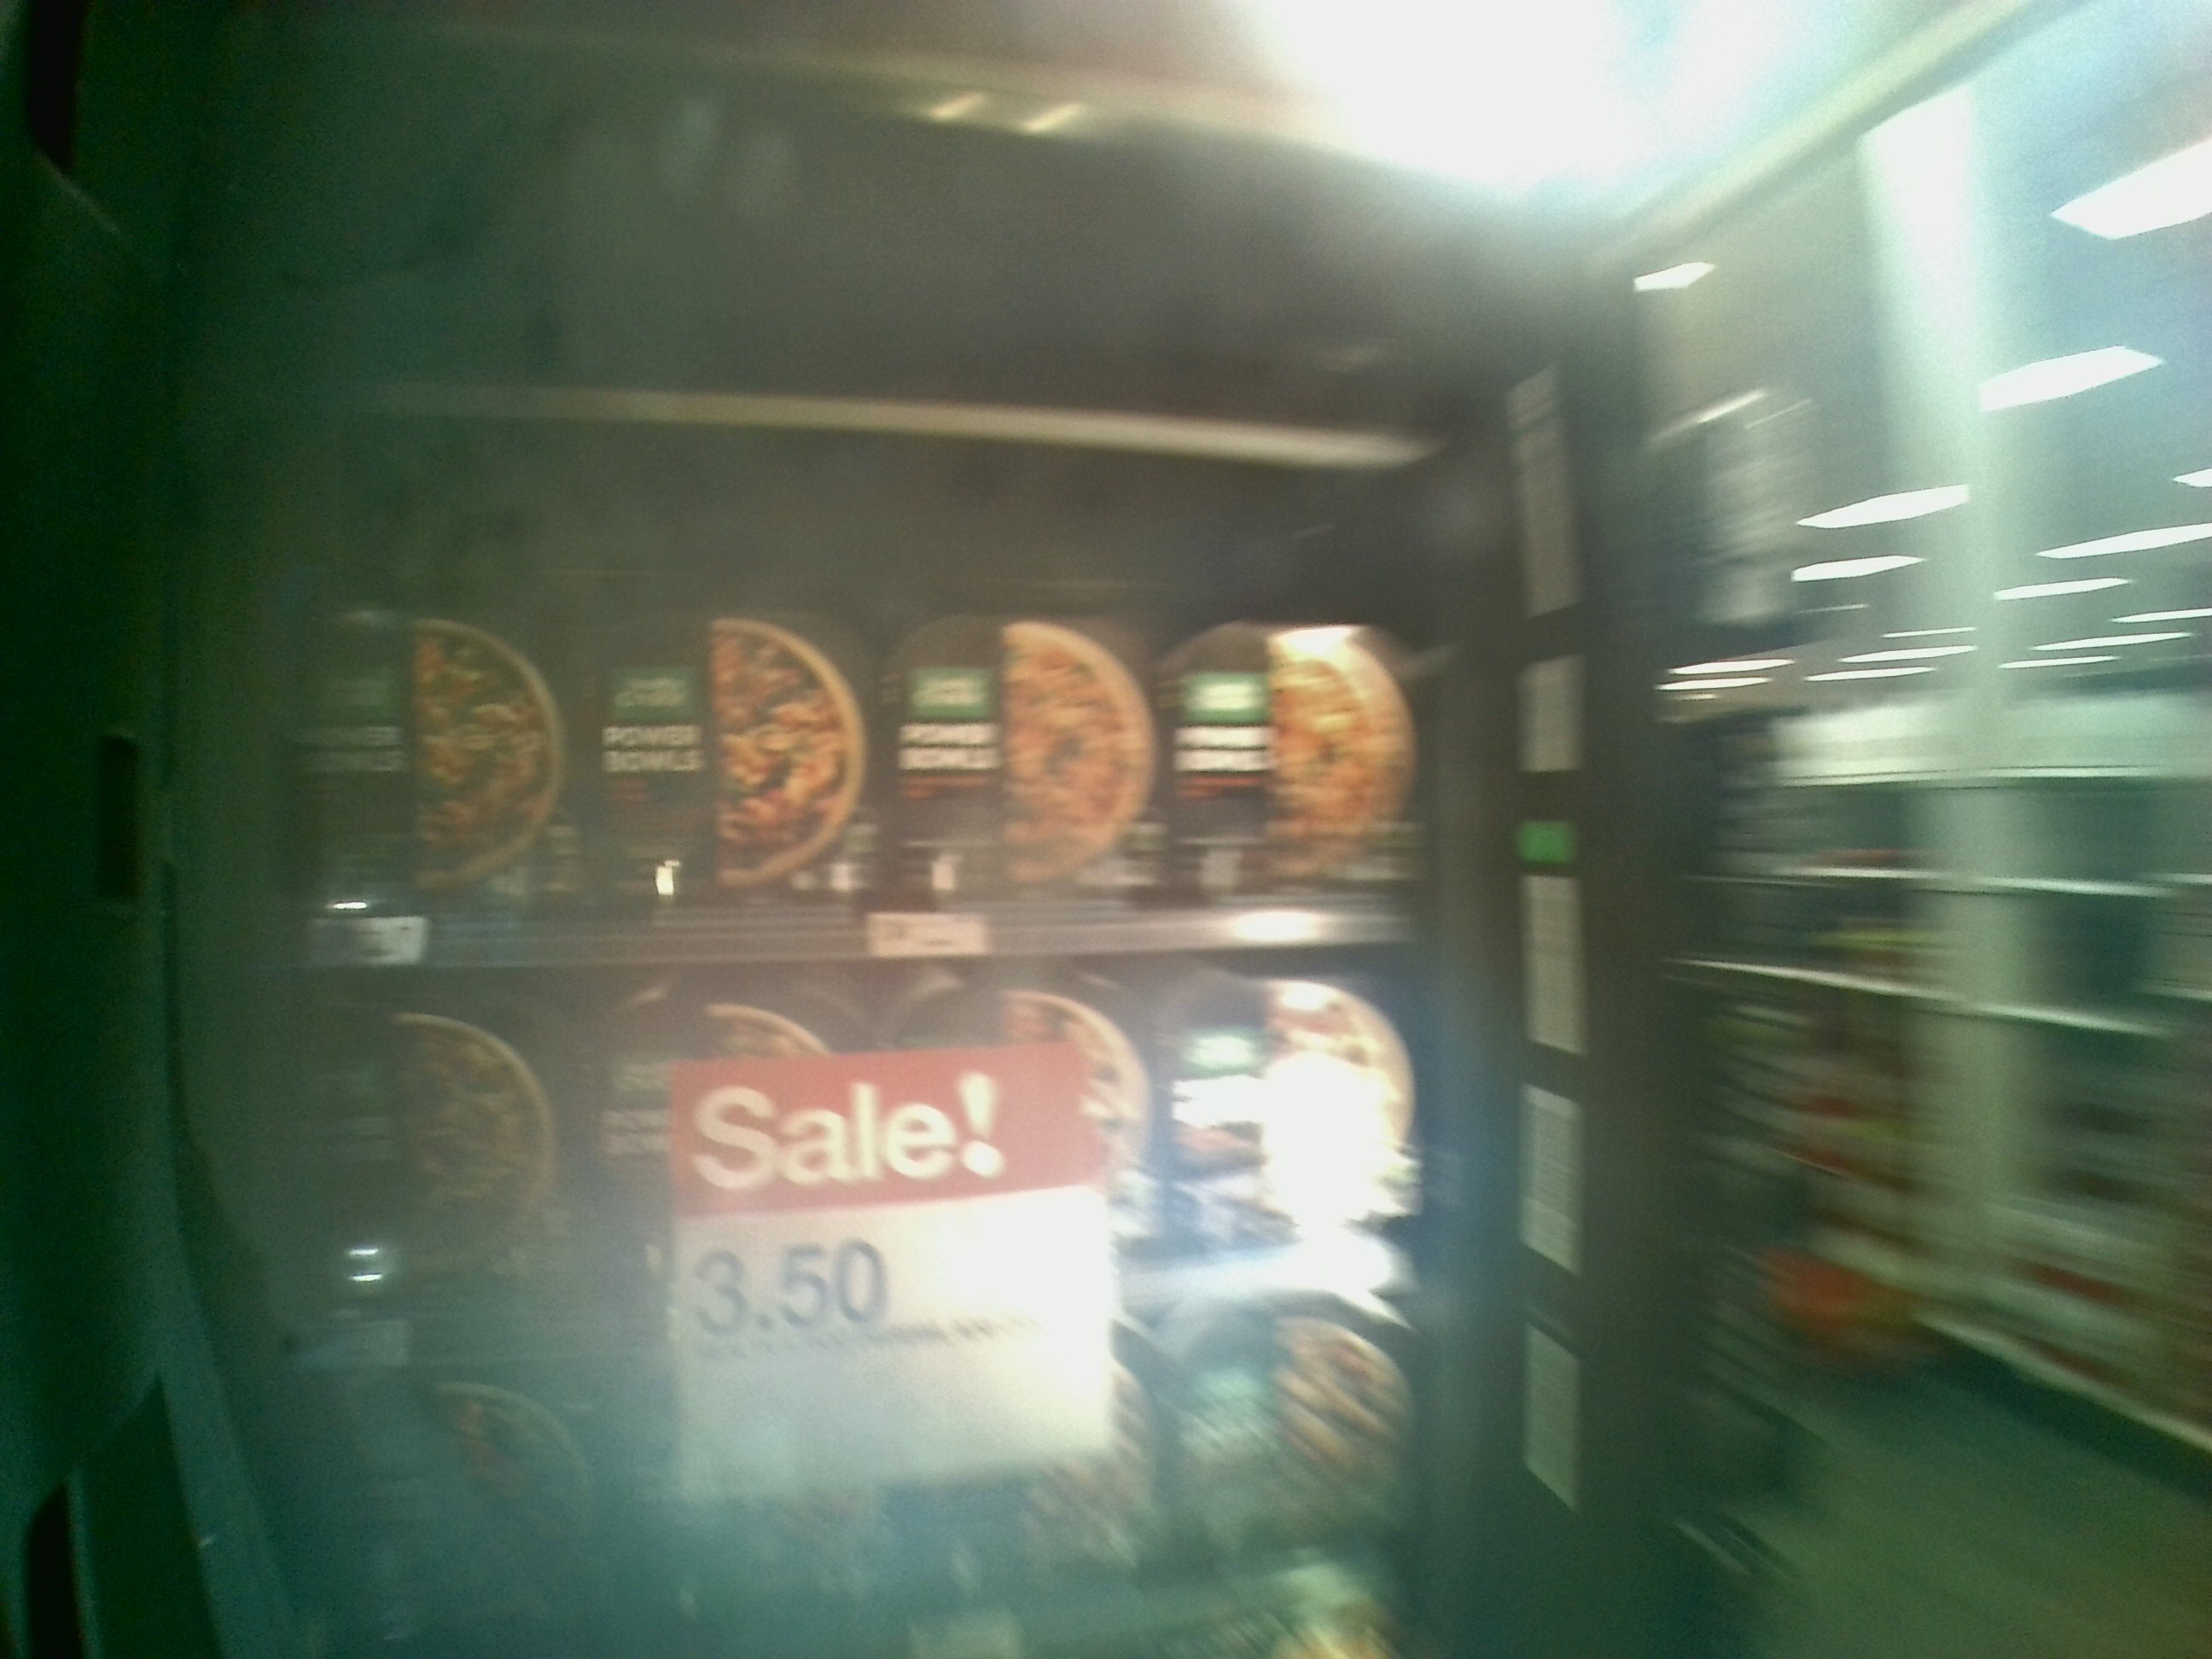shelf: (242, 385, 1449, 1004)
